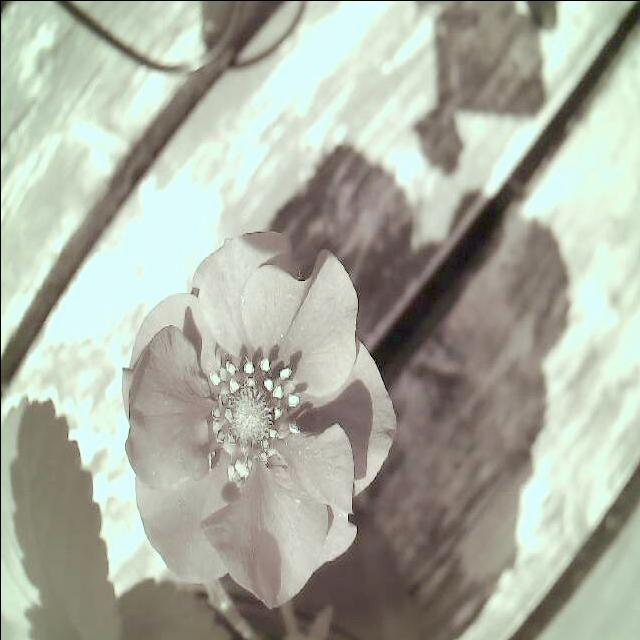flower: (115, 210, 395, 612)
